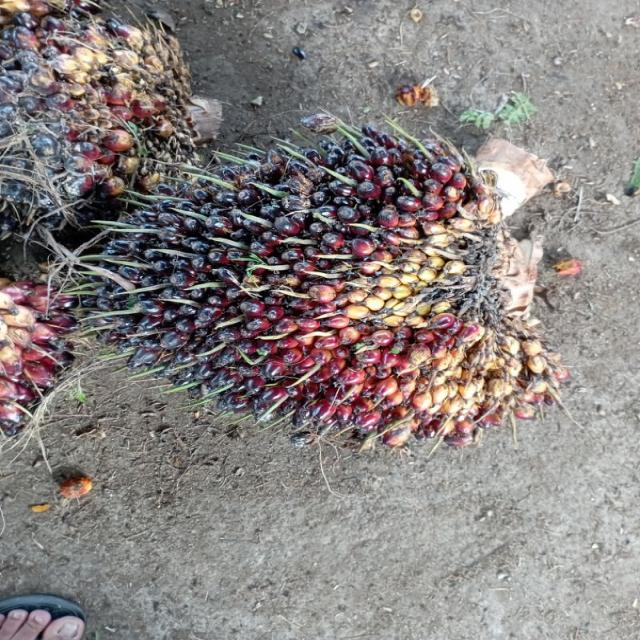fraksi 1: (41, 88, 570, 469)
